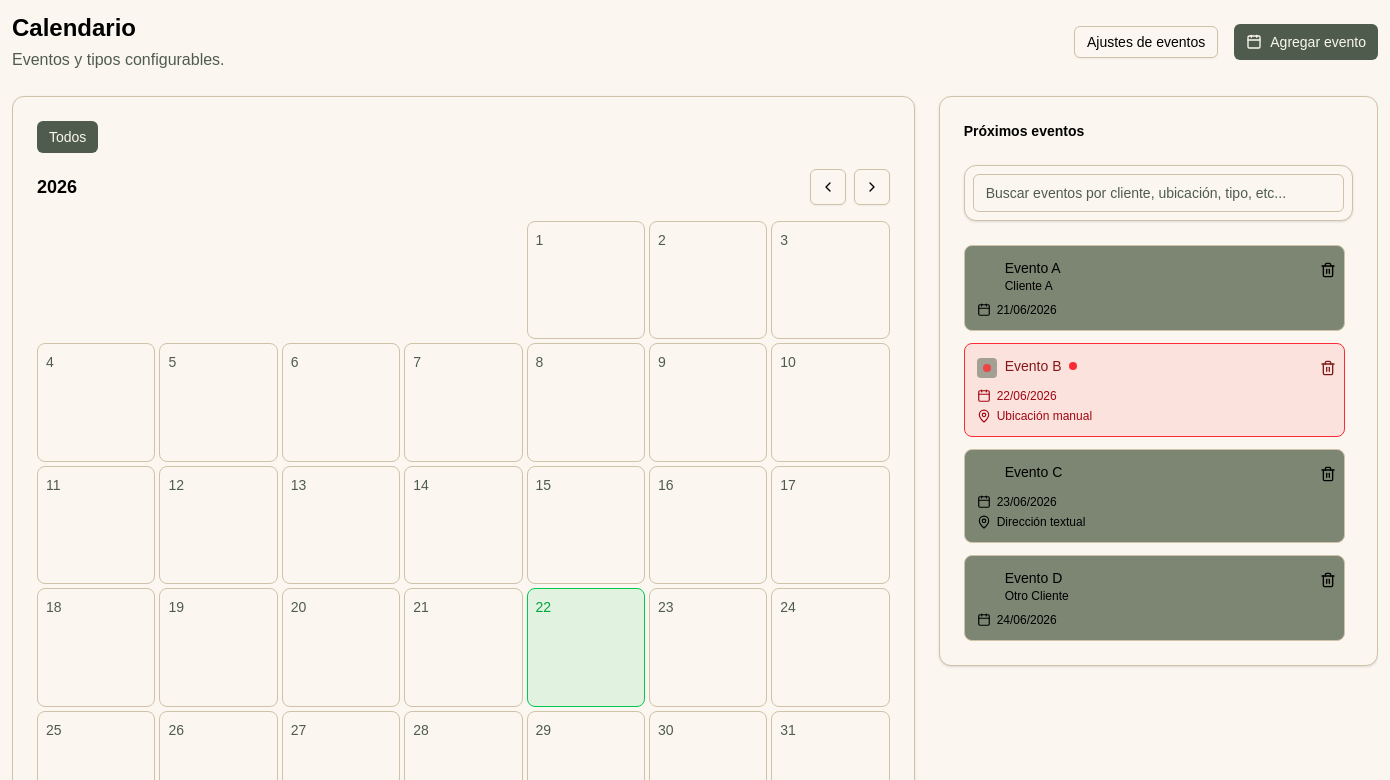
Scenario: CalendarView › search › filters by client_name
The image size is (1390, 780).
Type "Otro Cliente" into the field with placeholder "Buscar eventos por cliente, ubicación, tipo, etc...".
click(1158, 193); type("Otro Cliente")  # box 973,174 -> 1344,212
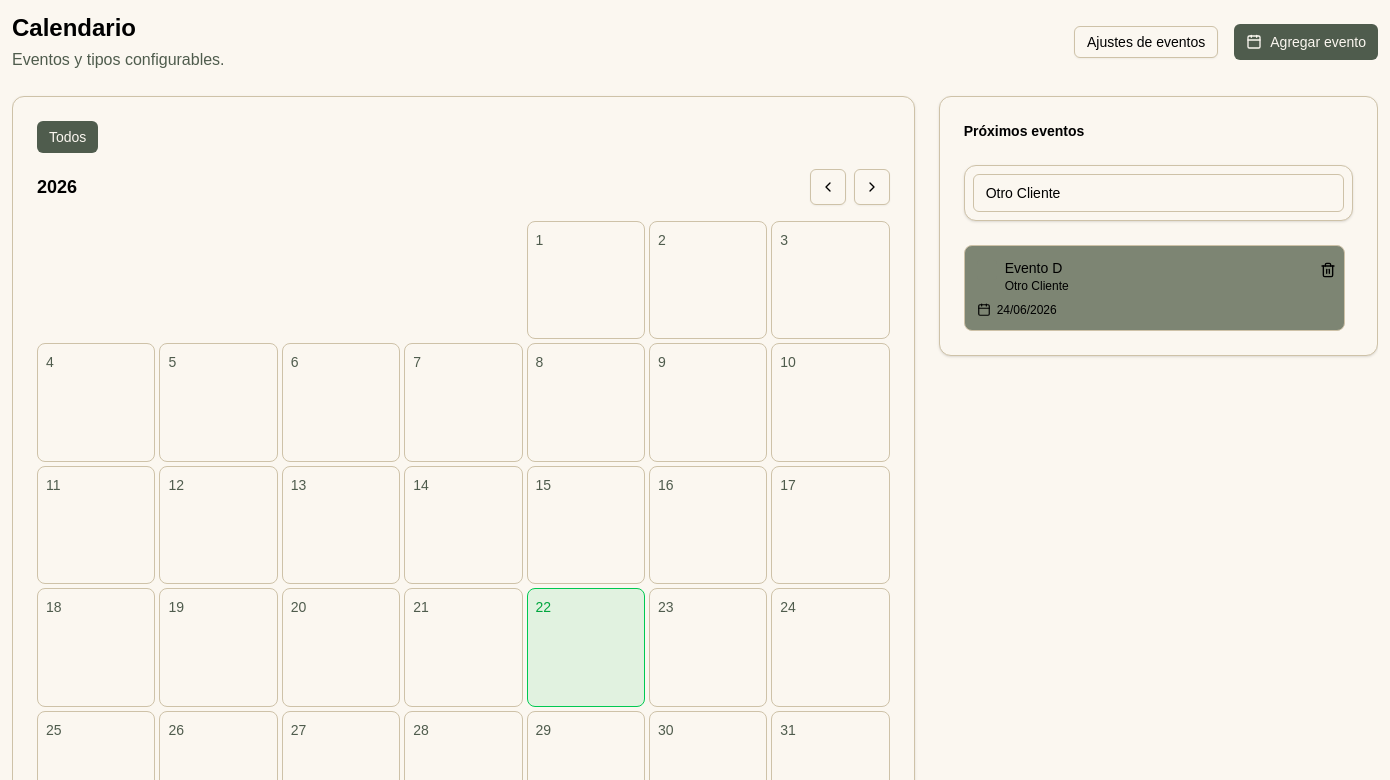
Now the heading "Evento A" is gone
Now the heading "Evento B" is gone
Now the heading "Evento C" is gone
